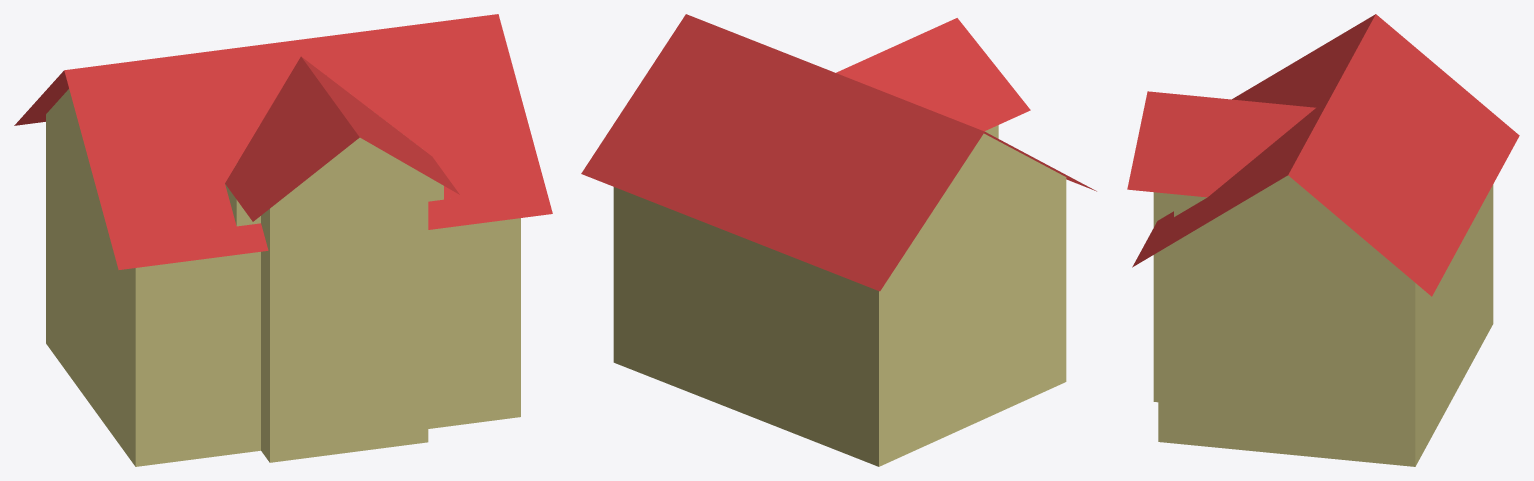
3 views of the same model, side by side, from view 1: azimuth 30°, elevation 25°; view 2: azimuth 150°, elevation 25°; view 3: azimuth 270°, elevation 25° (orthographic). The views are drawn at different scales.
Parts seen in each view (by area): view 1: group_7, group_5, group_9, group_3, group_8, group_4; view 2: group_9, group_7, group_3, group_8; view 3: group_9, group_7, group_3, group_8, group_5, group_4.
Boxes of the visible parts, x1,y1,x2,y2 form: group_7: (14,14,552,269); group_5: (225,137,443,462); group_9: (46,89,520,466); group_3: (225,56,459,221); group_8: (16,14,546,269); group_4: (259,128,459,211); group_9: (613,133,1066,466); group_7: (581,14,1096,291); group_3: (836,18,1030,131); group_8: (582,14,1084,289); group_9: (1158,175,1493,466); group_7: (1132,14,1519,296); group_3: (1127,91,1315,197); group_8: (1141,15,1518,293); group_5: (1153,192,1206,402); group_4: (1127,91,1178,193).
Bounding box in the file's own units: 15.36 × 13.38 × 10.87.
